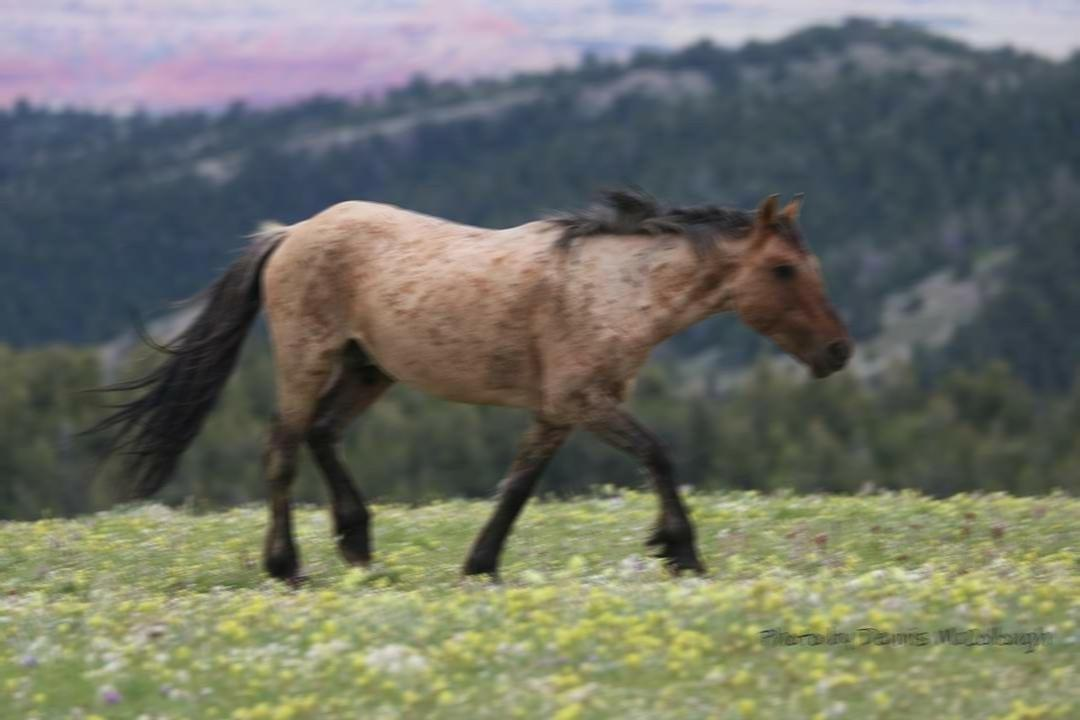horse: (70, 180, 854, 589)
